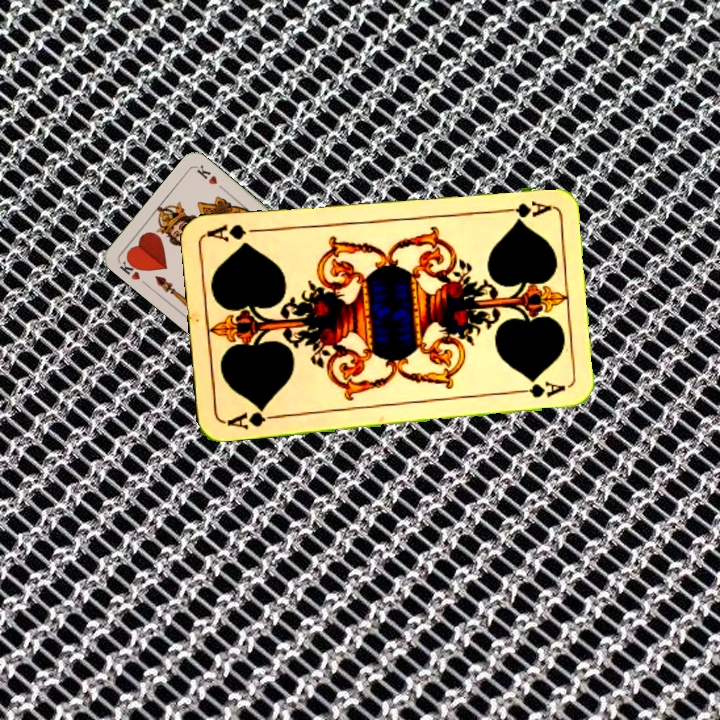GA: (221, 402, 280, 432), (494, 196, 553, 221)
HK: (115, 253, 145, 283)
